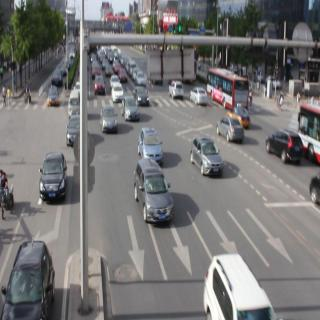BigCar: (205, 57, 254, 115)
Car: (195, 252, 277, 320), (0, 237, 54, 320), (133, 156, 175, 233), (186, 130, 228, 190), (36, 146, 72, 207), (260, 124, 305, 172), (214, 112, 251, 161), (137, 123, 165, 171), (63, 114, 89, 152), (118, 96, 144, 126), (189, 84, 209, 115), (98, 107, 119, 132), (167, 78, 187, 103), (44, 84, 61, 110), (91, 75, 107, 100), (133, 70, 151, 89), (110, 84, 127, 103)
